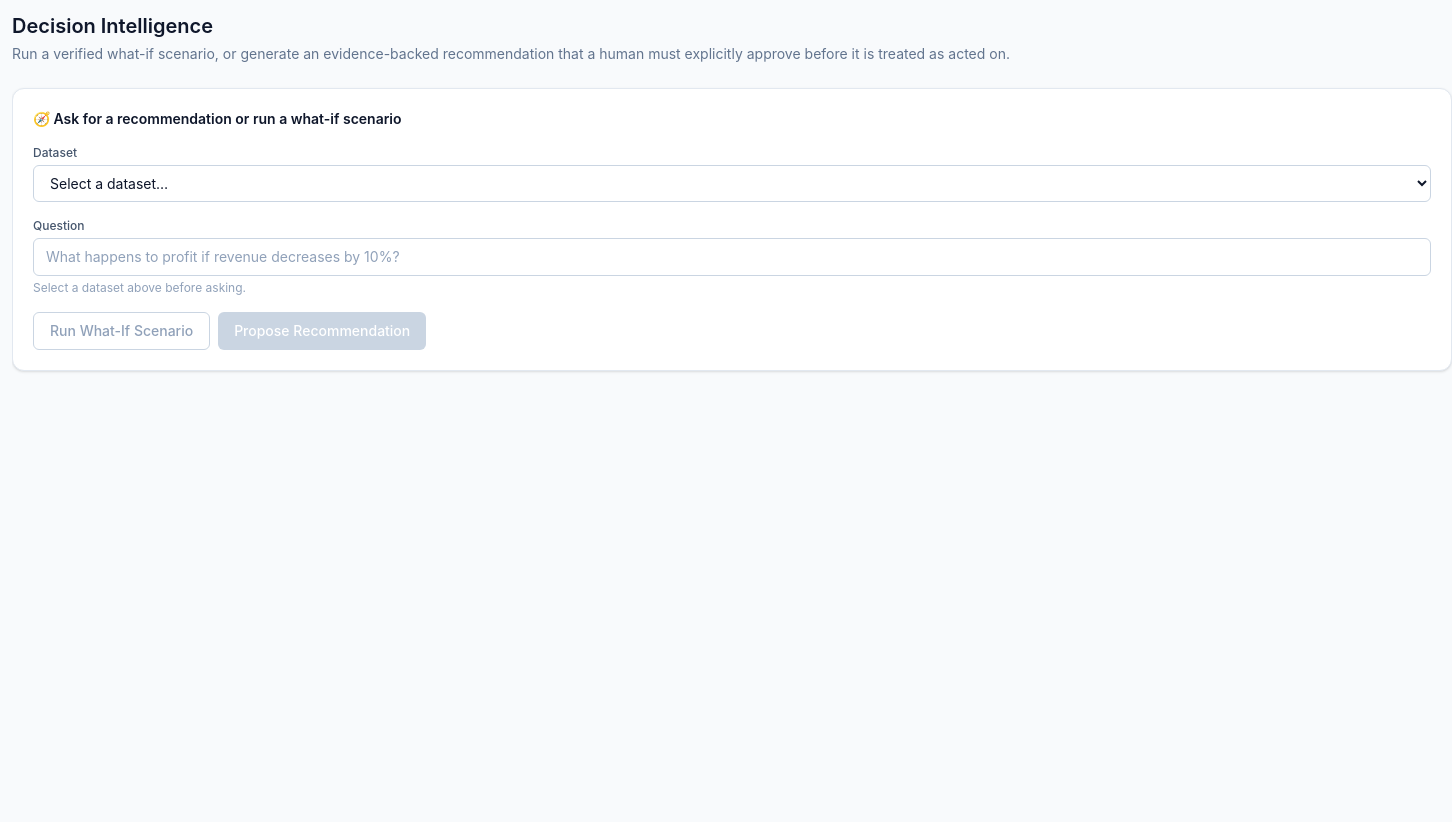
Test: DecisionsPage › proposes a recommendation and shows it as pending
This screenshot has width=1452, height=822.
Select "decision_finance_sample (15 rows)" in the dropdown labelled "Dataset" at (732, 184), box [33,165,1431,202]
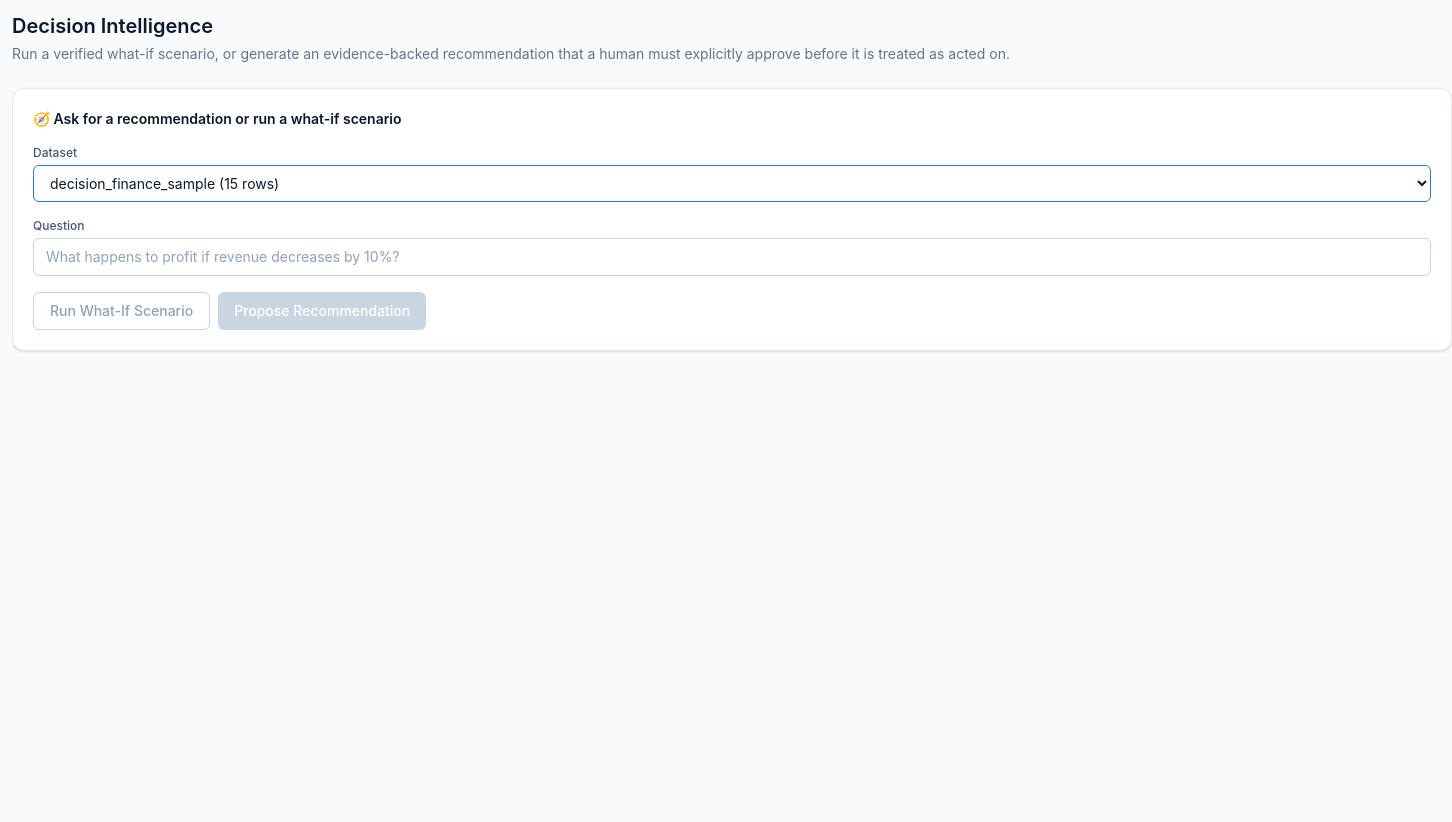
Type "recommend an action" into the field labelled "Question".
click(732, 257); type("recommend an action")  # box [33,238,1431,276]
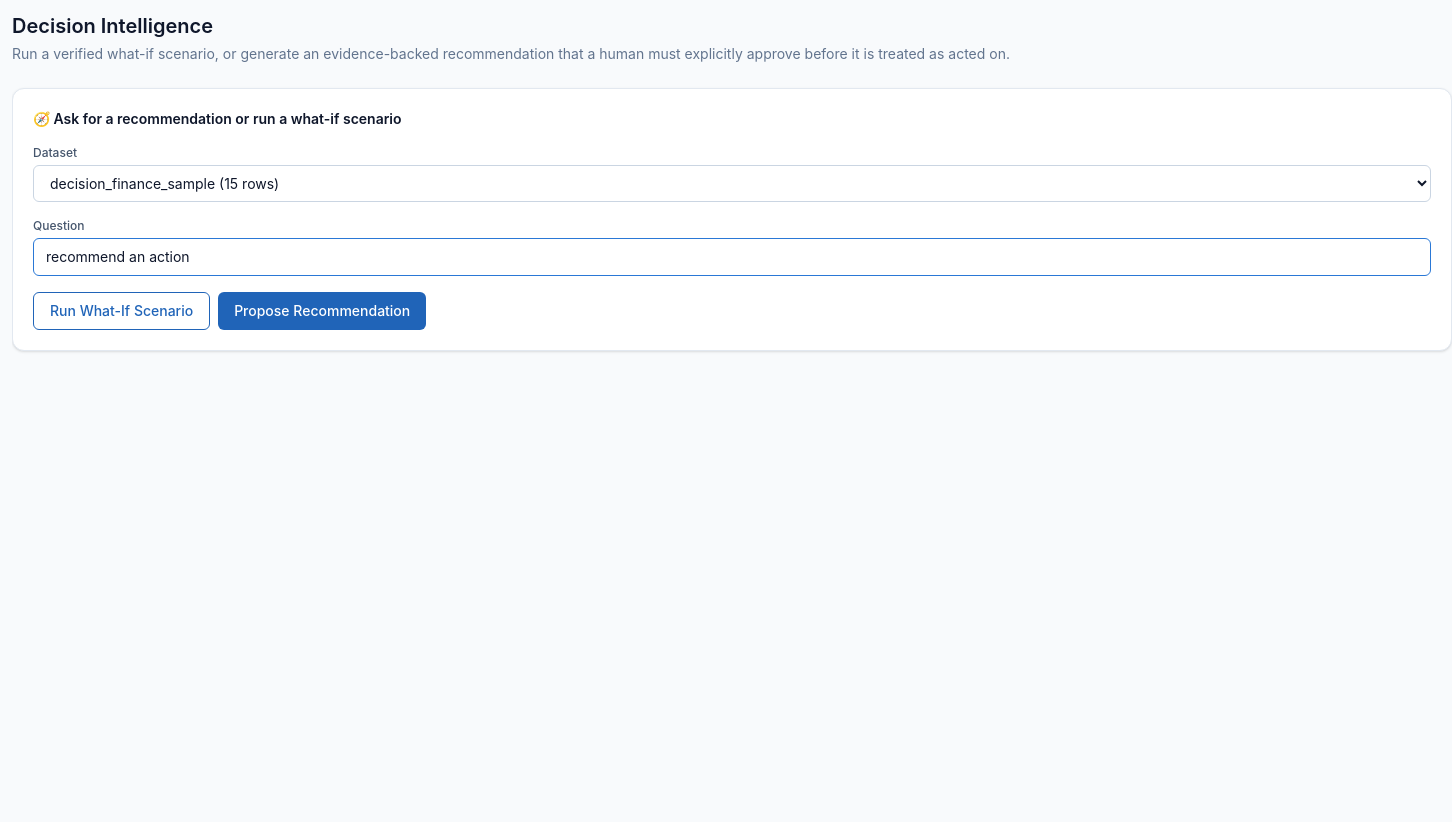
Click the button "Propose Recommendation".
click(322, 311)  # box [218,292,426,330]
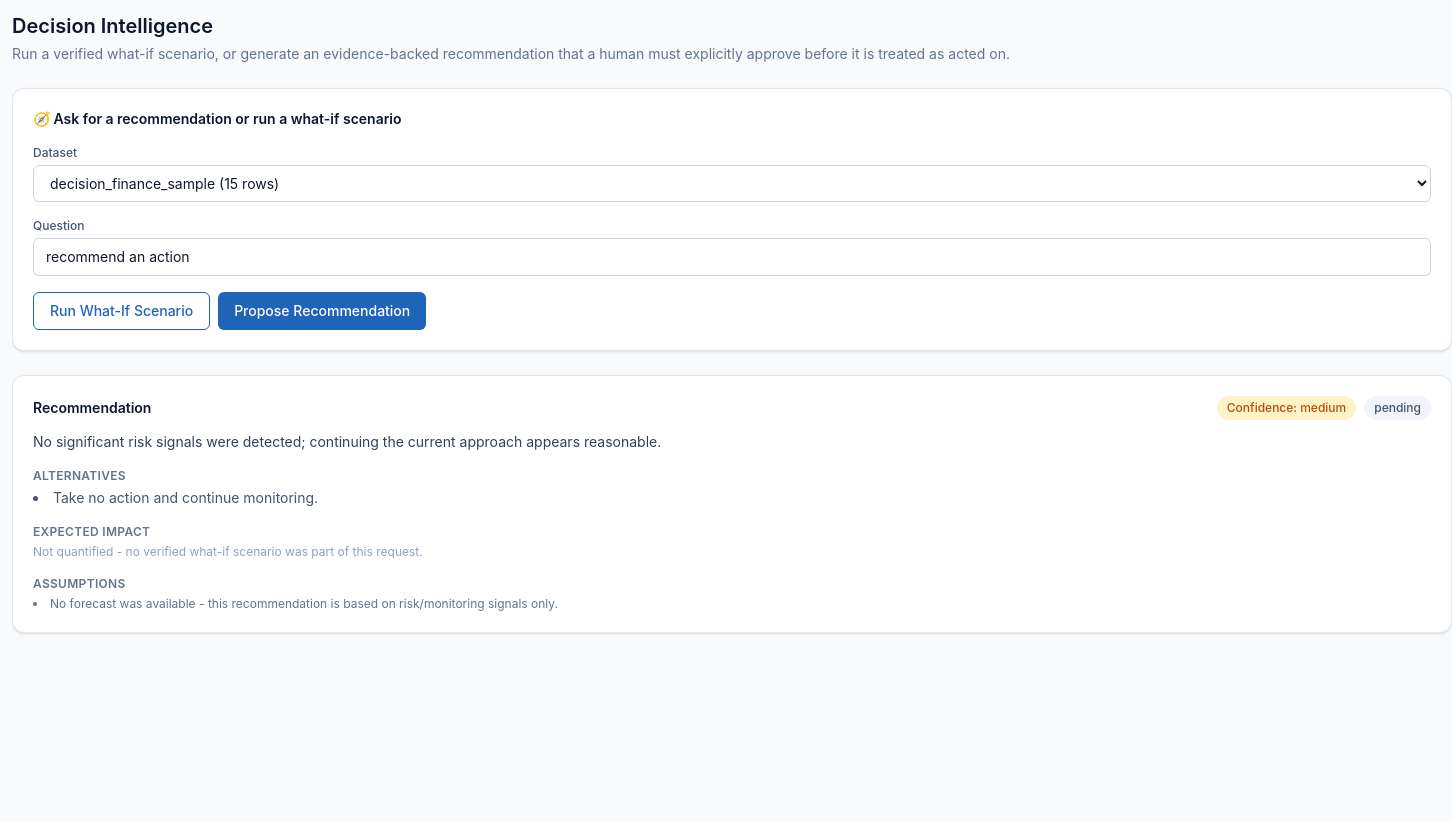
Expected: the text "No significant risk signals were detected" is shown, [33,433,661,450]
Expected: the text "pending" is shown, [1364,396,1431,420]
